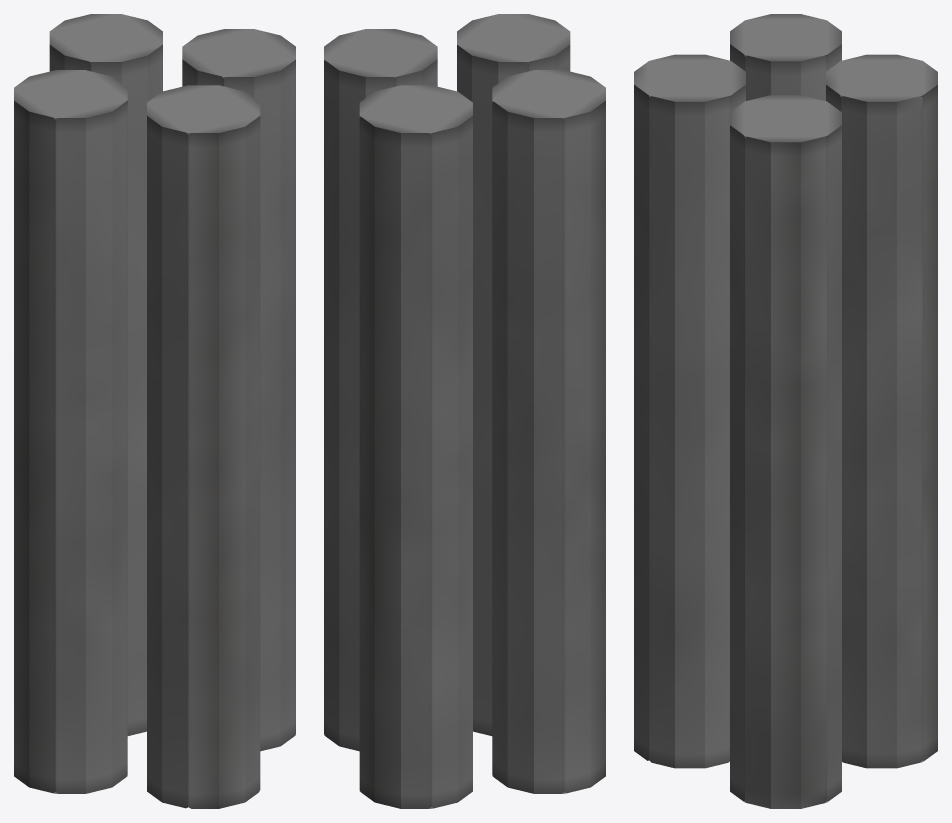
Rendered from centrifuge_cylinder_lopasti.obj.
3 renders of one model, left to right at view 1: azimuth 30°, elevation 25°; view 2: azimuth 150°, elevation 25°; view 3: azimuth 270°, elevation 25°, orthographic.
Parts seen in each view (by area): view 1: cylinder; view 2: cylinder; view 3: cylinder.
Boxes of the visible parts, x1,y1,x2,y2 form: cylinder: (14, 14, 295, 808); cylinder: (324, 14, 605, 808); cylinder: (634, 14, 937, 808).
Bounding box in the file's own units: 0.5938 × 1.44 × 0.5938.
